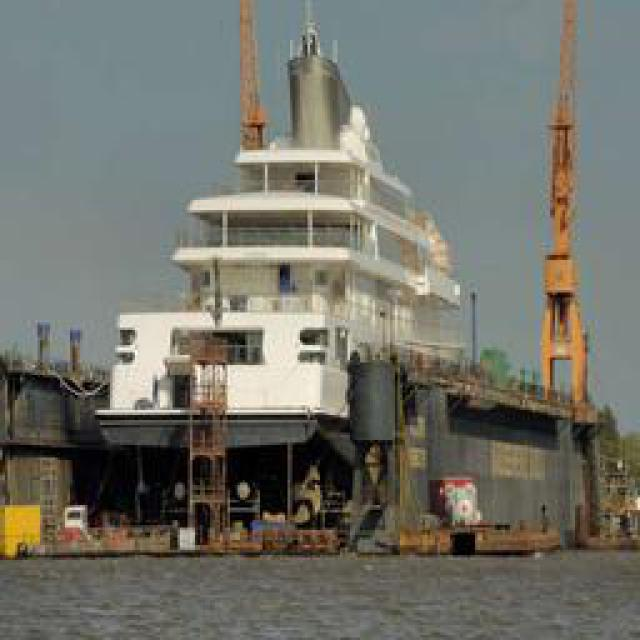Ship: (95, 11, 620, 561)
